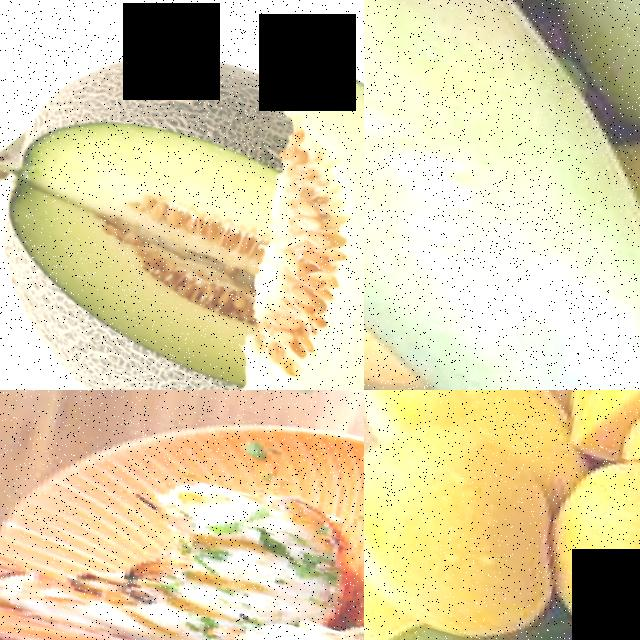lobster tails: (0, 464, 248, 640)
mango: (364, 0, 640, 390), (364, 398, 568, 640), (527, 452, 640, 640)
melon: (0, 0, 300, 390), (201, 36, 364, 390)
